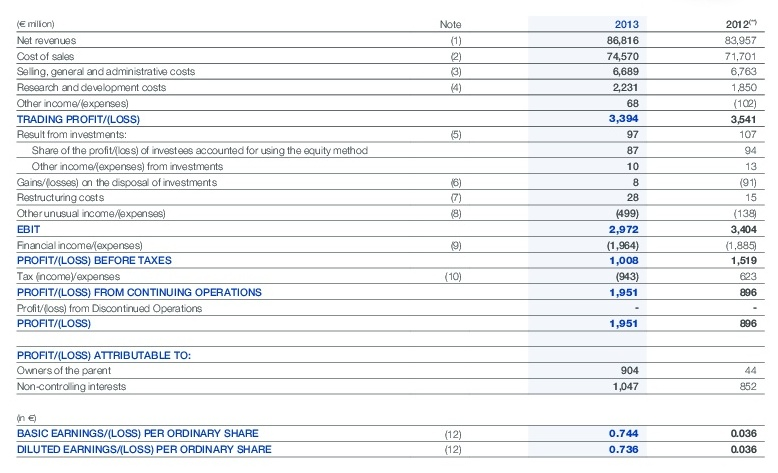table: (0, 0, 778, 473)
